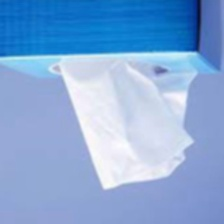book: (0, 0, 224, 83)
tissue: (55, 52, 202, 193)
